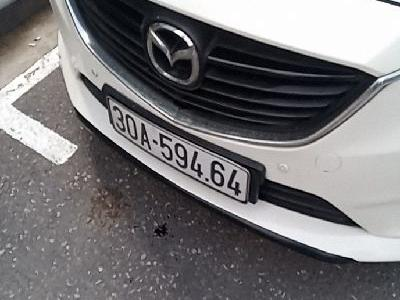lisence: (104, 95, 251, 207)
